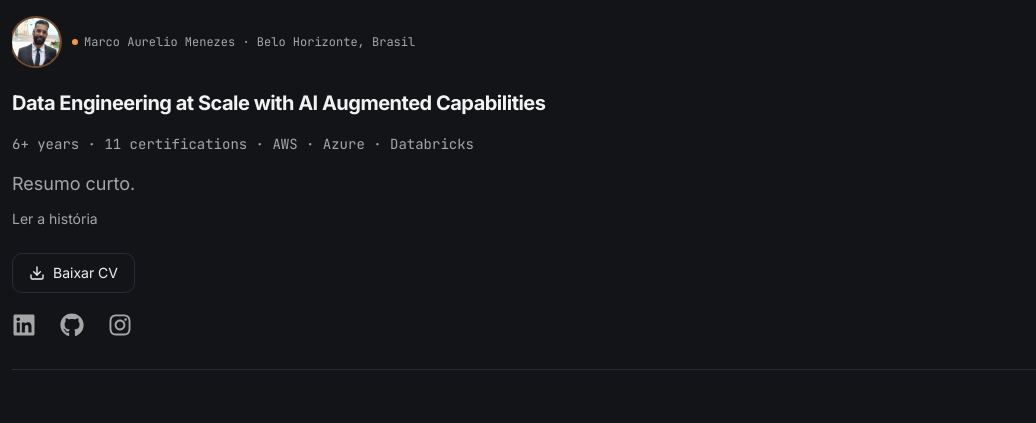
it: HeroSection — one column and story toggle (AC3.1) › one click expands only resume.full, keeps resume.short, and relabels the toggle storyClose
Click the button "Ler a história" at (55, 218), box left=12, top=208, right=98, bottom=228
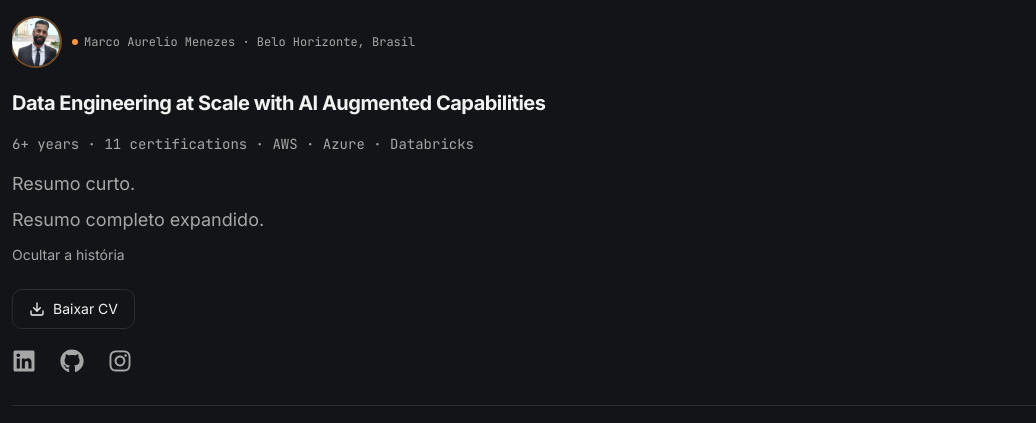
Expected: the text "Resumo curto." is shown, left=12, top=172, right=135, bottom=194
Result: the button "Ocultar a história" is expanded
Result: the text "Resumo completo expandido." is shown at left=12, top=208, right=264, bottom=230
Click the button "Ocultar a história" at (68, 254), box left=12, top=244, right=125, bottom=264
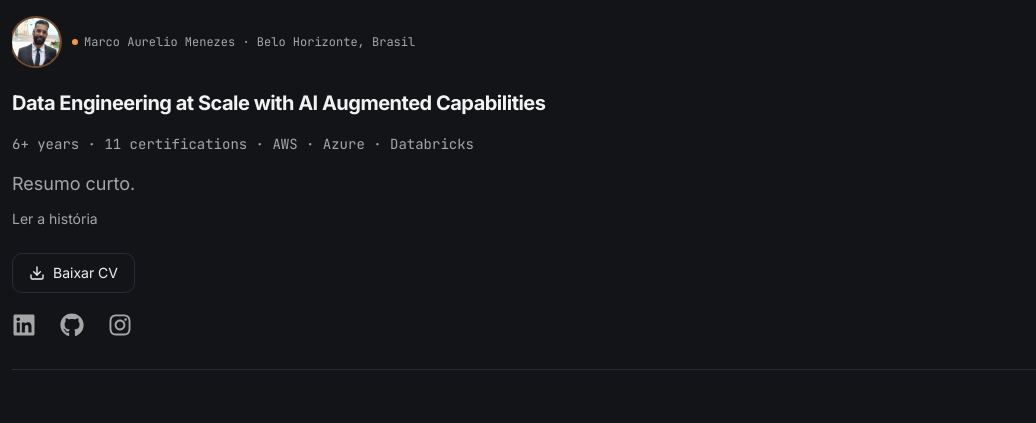
Result: the text "Resumo completo expandido." is gone
